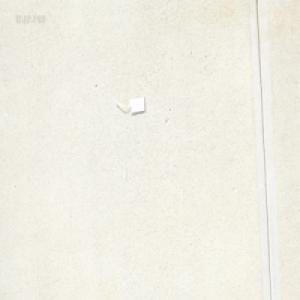LuggageTag: (112, 95, 145, 114)
